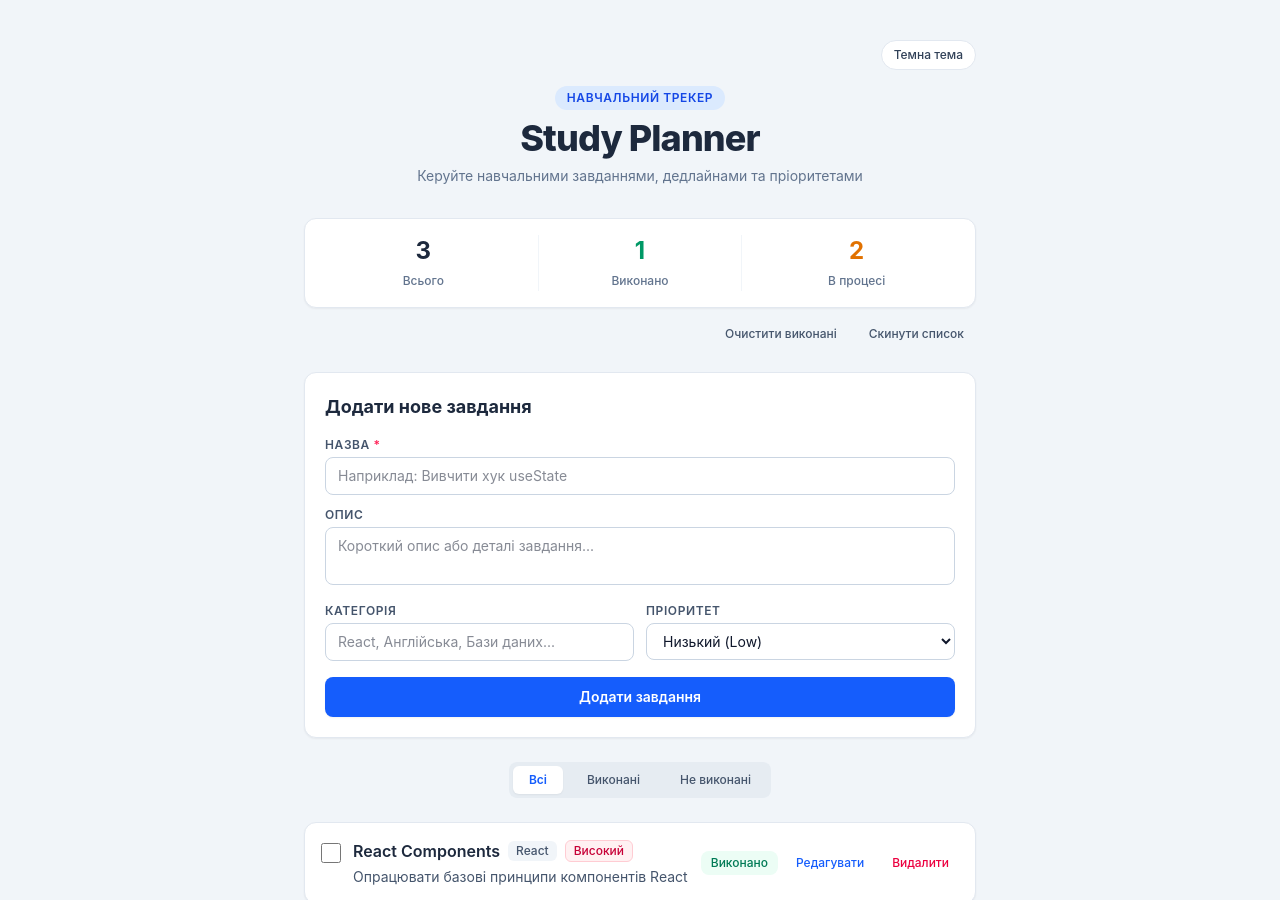
Test: Study Planner (App) › дозволяє редагувати завдання та показує сповіщення
Click the button "Редагувати" at (830, 863), box [786,851,874,875]
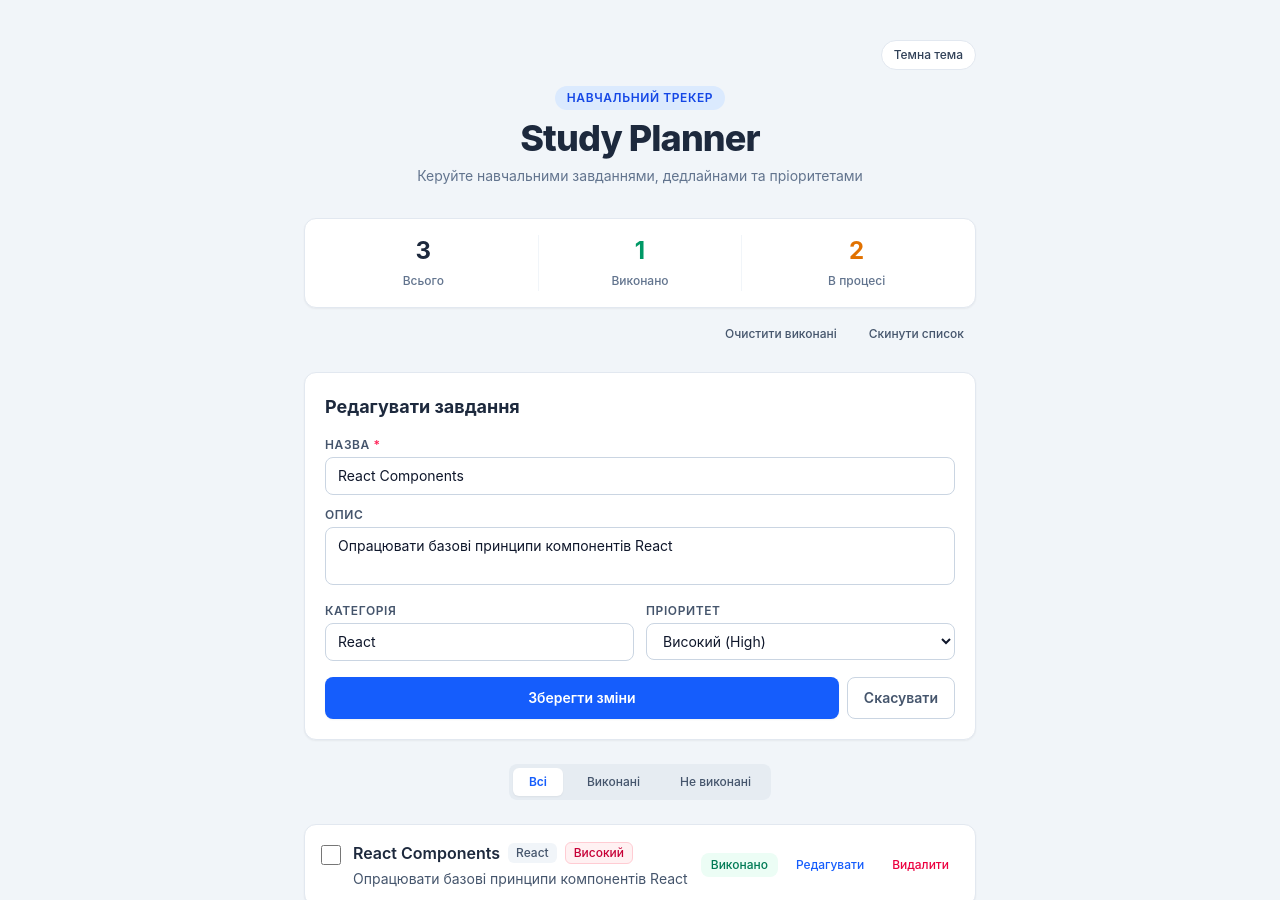
Replace the text in the field with placeholder "Наприклад: Вивчити хук useState" below "Назва" with "Оновлене завдання" at (640, 476), box [325,457,955,495]
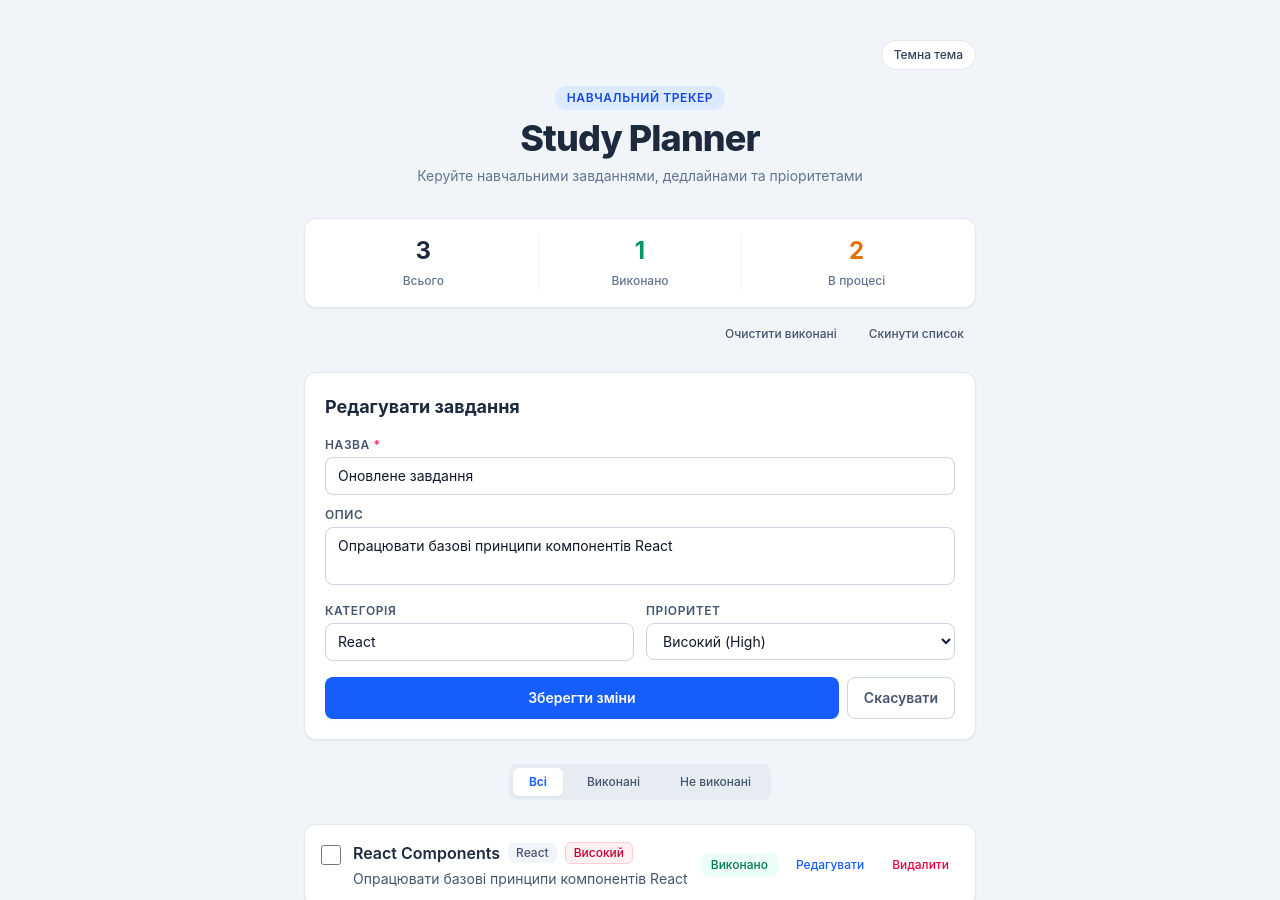
Click the button "Зберегти зміни" at (582, 698), box [325,677,839,719]
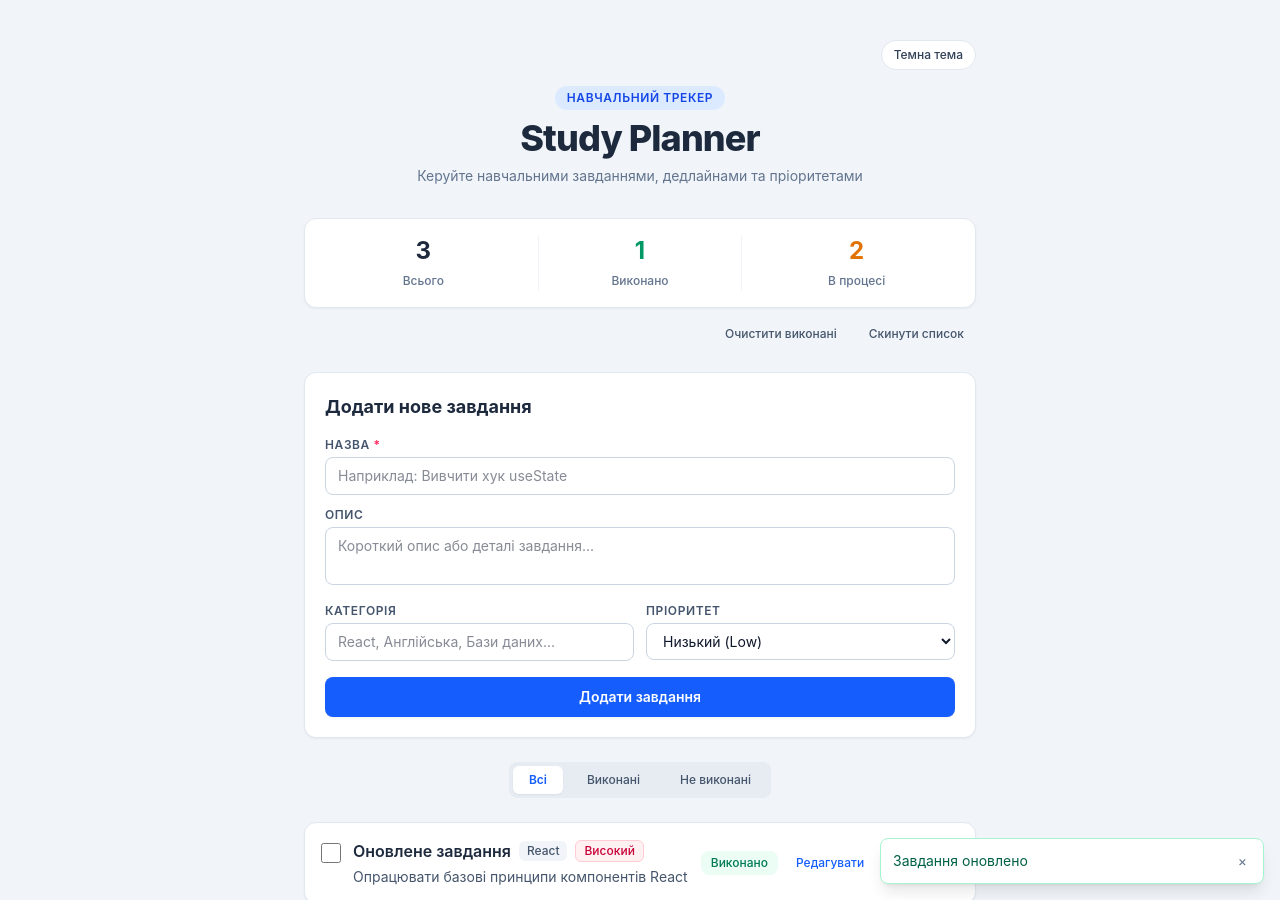
Now the heading "Оновлене завдання" is shown, box [353,839,511,863]
Now the text "Завдання оновлено" is shown, box [893,851,1028,871]
